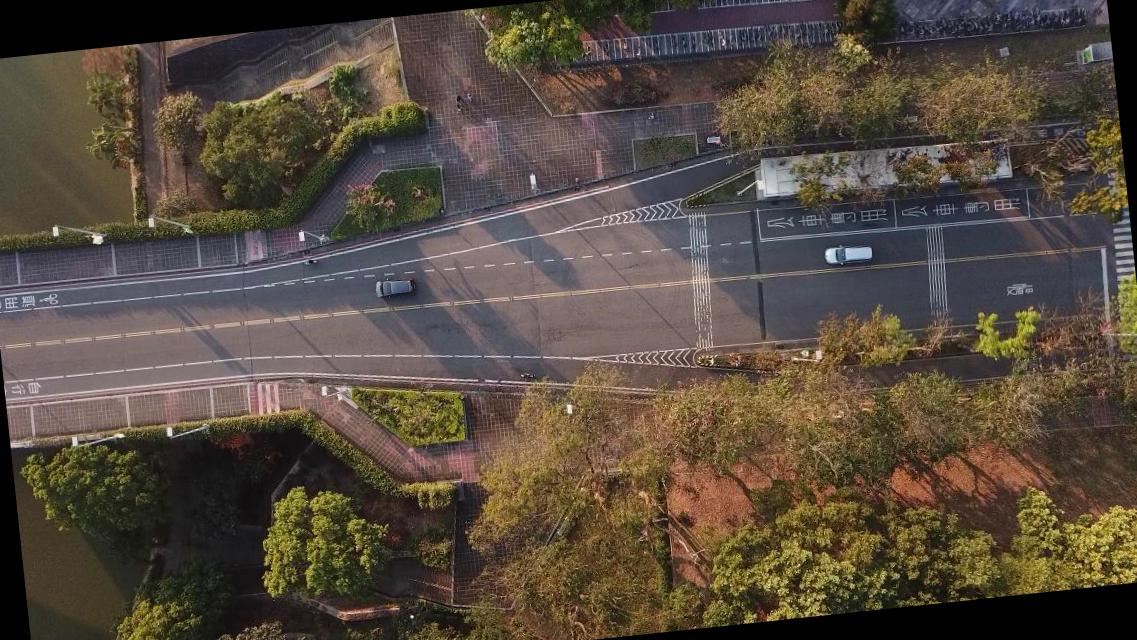vehicle: (823, 242, 872, 268), (374, 275, 418, 299)
